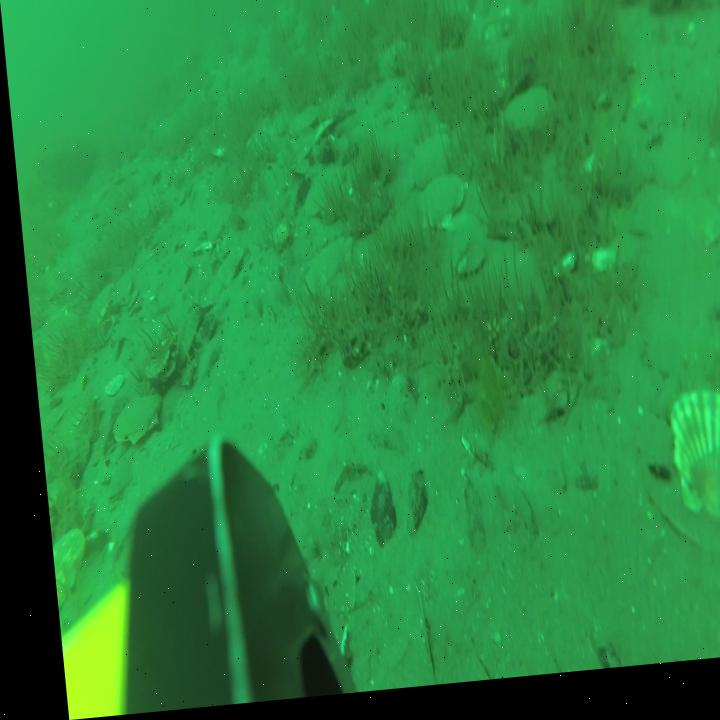scallop: (658, 390, 720, 553), (493, 87, 555, 151), (294, 240, 355, 303), (40, 526, 81, 617), (296, 170, 347, 236), (102, 391, 159, 450), (413, 178, 465, 242), (402, 138, 453, 197)
